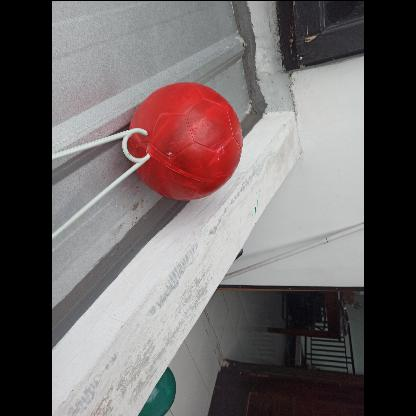red_ball: (130, 80, 246, 198)
